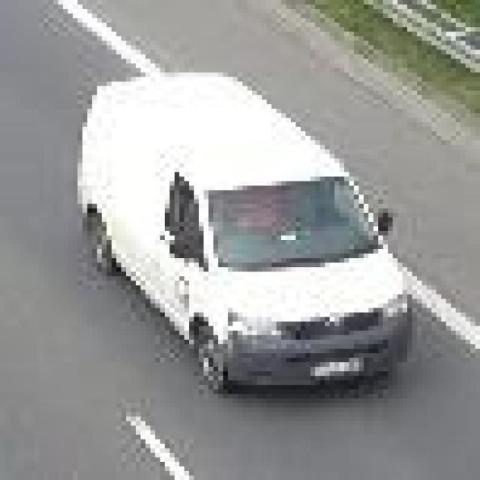van: (80, 71, 410, 392)
